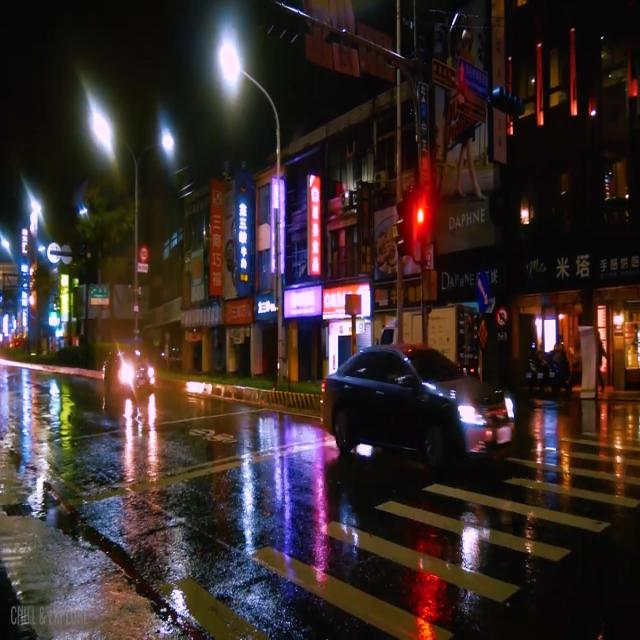Car: (321, 347, 512, 453)
